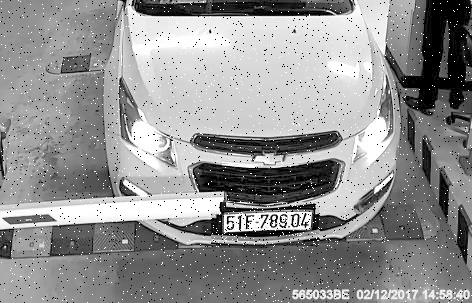License-plate: (213, 204, 322, 249)
